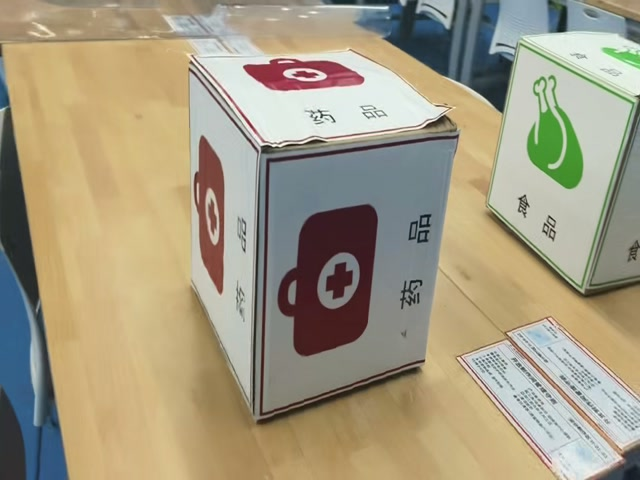Cube_food: (520, 34, 637, 114)
Cube_medicine: (184, 50, 452, 156)
